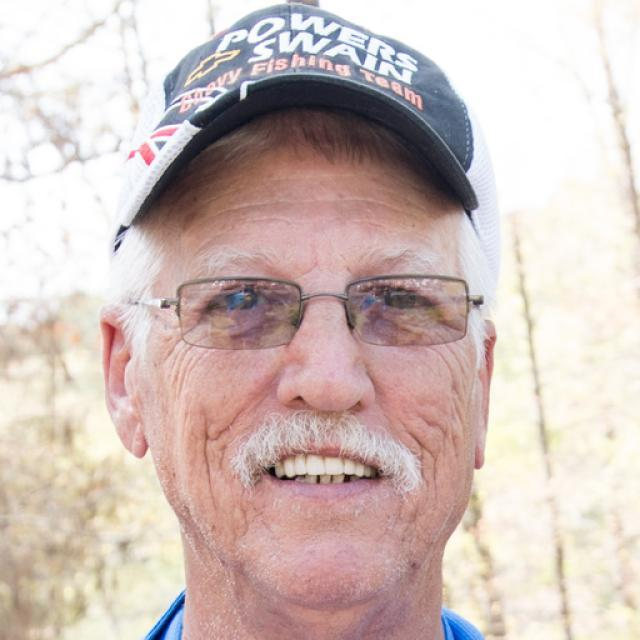happy: (138, 106, 480, 609)
